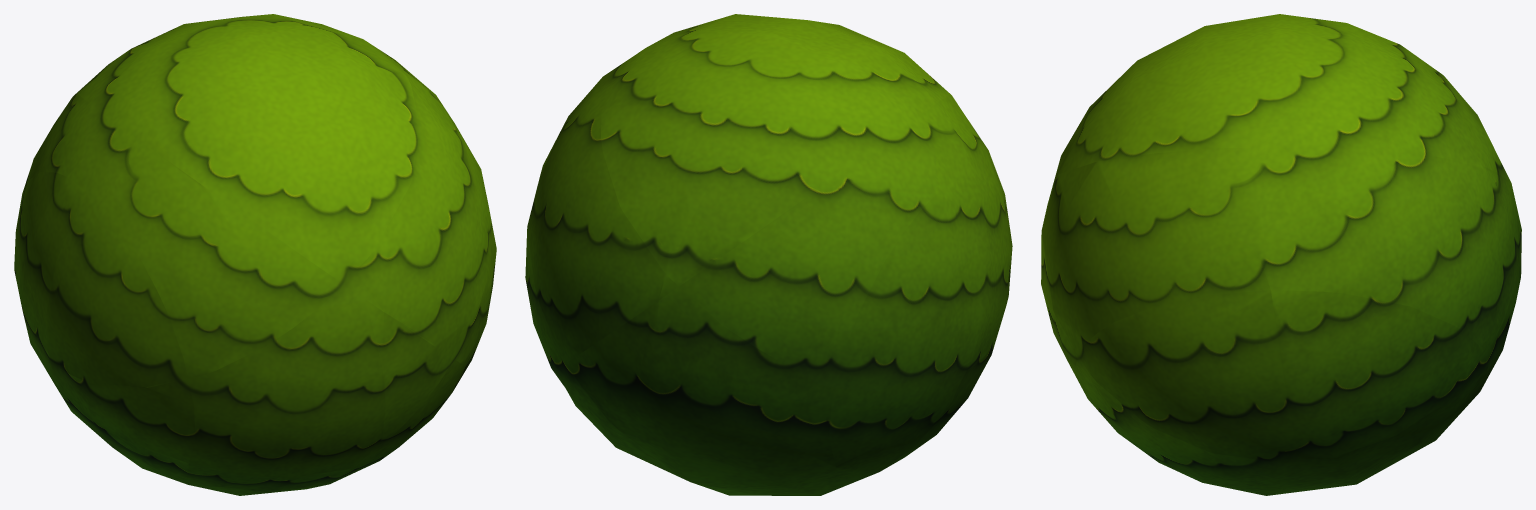
File: bush ball break.fbx
3 renders of one model, left to right at view 1: azimuth 30°, elevation 25°; view 2: azimuth 150°, elevation 25°; view 3: azimuth 270°, elevation 25°, orthographic.
Parts seen in each view (by area): view 1: bush ball.011, bush ball.003, bush ball.001, bush ball.010, bush ball.002, bush ball.004, bush ball.020, bush ball.007, bush ball.005, bush ball.008, bush ball.012, bush ball.006 (+4 smaller); view 2: bush ball.006, bush ball.018, bush ball.008, bush ball.007, bush ball.009, bush ball.005, bush ball.019, bush ball.004, bush ball.017, bush ball.002, bush ball.003, bush ball.001 (+3 smaller); view 3: bush ball.009, bush ball.010, bush ball.014, bush ball.015, bush ball.008, bush ball.001, bush ball.013, bush ball.016, bush ball.007, bush ball.002, bush ball.012, bush ball.017.
Boxes of the visible parts, x1=… form: bush ball.011: x1=153, y1=284, x2=385, y2=495; bush ball.003: x1=88, y1=136, x2=342, y2=378; bush ball.001: x1=228, y1=47, x2=419, y2=271; bush ball.010: x1=354, y1=66, x2=492, y2=358; bush ball.002: x1=133, y1=71, x2=354, y2=283; bush ball.004: x1=47, y1=194, x2=187, y2=388; bush ball.020: x1=52, y1=363, x2=194, y2=475; bush ball.007: x1=77, y1=37, x2=227, y2=135; bush ball.005: x1=14, y1=172, x2=87, y2=362; bush ball.008: x1=156, y1=14, x2=394, y2=70; bush ball.012: x1=364, y1=298, x2=453, y2=445; bush ball.006: x1=21, y1=93, x2=132, y2=200; bush ball.006: x1=679, y1=117, x2=955, y2=382; bush ball.018: x1=637, y1=287, x2=862, y2=495; bush ball.008: x1=601, y1=22, x2=829, y2=274; bush ball.007: x1=667, y1=46, x2=917, y2=286; bush ball.009: x1=527, y1=59, x2=666, y2=362; bush ball.005: x1=836, y1=182, x2=979, y2=390; bush ball.019: x1=829, y1=374, x2=965, y2=478; bush ball.004: x1=956, y1=173, x2=1012, y2=372; bush ball.017: x1=567, y1=301, x2=657, y2=448; bush ball.002: x1=830, y1=37, x2=948, y2=116; bush ball.003: x1=918, y1=93, x2=1006, y2=205; bush ball.001: x1=663, y1=14, x2=876, y2=46; bush ball.009: x1=1254, y1=147, x2=1518, y2=355; bush ball.010: x1=1041, y1=147, x2=1270, y2=355; bush ball.014: x1=1079, y1=290, x2=1299, y2=461; bush ball.015: x1=1271, y1=290, x2=1484, y2=458; bush ball.008: x1=1247, y1=21, x2=1508, y2=178; bush ball.001: x1=1056, y1=27, x2=1254, y2=176; bush ball.013: x1=1075, y1=356, x2=1310, y2=495; bush ball.016: x1=1299, y1=356, x2=1487, y2=490; bush ball.007: x1=1248, y1=14, x2=1486, y2=132; bush ball.002: x1=1054, y1=19, x2=1249, y2=180; bush ball.012: x1=1041, y1=215, x2=1078, y2=375; bush ball.017: x1=1485, y1=207, x2=1521, y2=382.
Size of the model in its own units: 103 by 103 by 102.
